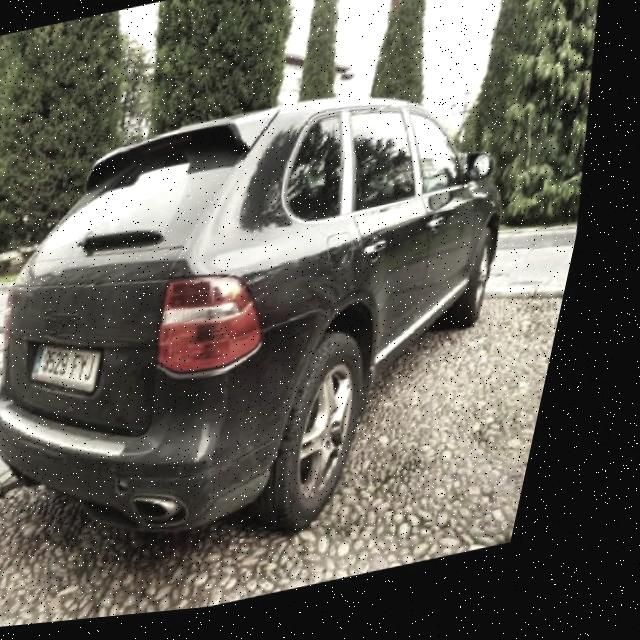license_plate: (38, 332, 126, 407)
